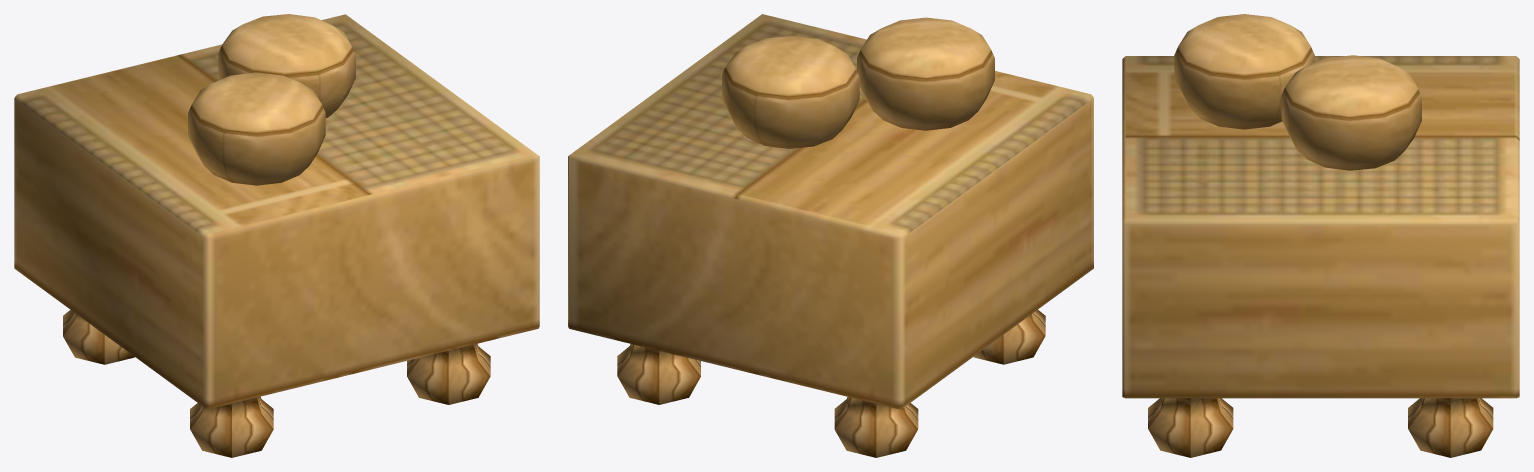
Rendered from int_oth_go.dae.
3 views of the same model, side by side, from view 1: azimuth 30°, elevation 25°; view 2: azimuth 150°, elevation 25°; view 3: azimuth 270°, elevation 25° (orthographic). The views are drawn at different scales.
Visible parts, largest first — view 1: int_oth_go; view 2: int_oth_go; view 3: int_oth_go.
Boxes of the visible parts, x1,y1,x2,y2 form: int_oth_go: (14,14,539,457); int_oth_go: (568,14,1093,457); int_oth_go: (1122,14,1519,457).
Size of the model in its own units: 25.6 by 23.48 by 25.8.
1 material, 1 textured.
